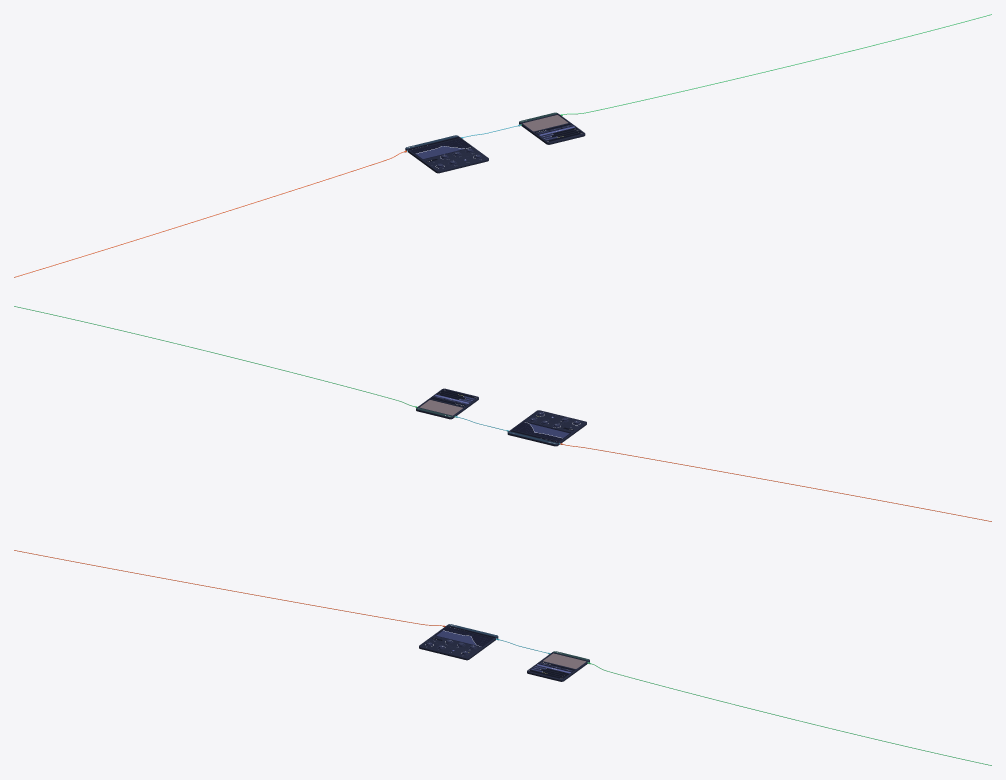
File: node_chain_wide.glb
The picture shows the model from 3 angles, top to bottom: view 1: azimuth 30°, elevation 25°; view 2: azimuth 150°, elevation 25°; view 3: azimuth 330°, elevation 25°; orthographic projection. The views are drawn at different scales.
Parts seen in each view (by area): view 1: card.004; view 2: card.004, card.005, cable.004, cable.005; view 3: card.004, cable.004, cable.005, card.005.
Boxes of the visible parts, bbox=[...] form: card.004: bbox=[405, 136, 488, 173]; card.004: bbox=[507, 410, 586, 446]; card.005: bbox=[416, 388, 478, 419]; cable.004: bbox=[562, 444, 991, 521]; cable.005: bbox=[14, 306, 415, 406]; card.004: bbox=[419, 625, 498, 660]; cable.004: bbox=[14, 550, 442, 626]; cable.005: bbox=[590, 663, 991, 765]; card.005: bbox=[527, 652, 589, 681].
Size of the model in its own units: 8.8 by 0.0325 by 0.514.
